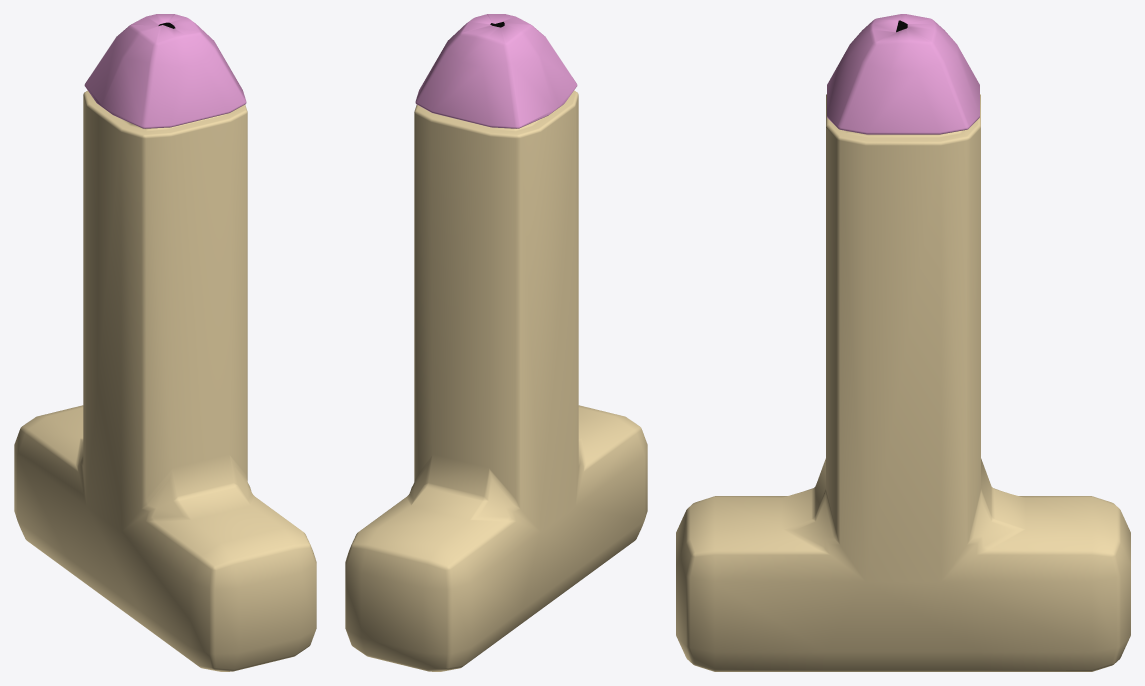
The model's file is Branima sculpture 1.fbx.
The picture shows the model from 3 angles, left to right: view 1: azimuth 30°, elevation 25°; view 2: azimuth 150°, elevation 25°; view 3: azimuth 270°, elevation 25°; orthographic projection. The views are drawn at different scales.
Parts seen in each view (by area): view 1: Cube; view 2: Cube; view 3: Cube.
Boxes of the visible parts, bbox=[...] form: Cube: bbox=[14, 14, 316, 671]; Cube: bbox=[345, 14, 647, 671]; Cube: bbox=[676, 14, 1130, 671].
Size of the model in its own units: 200 by 905 by 586.
